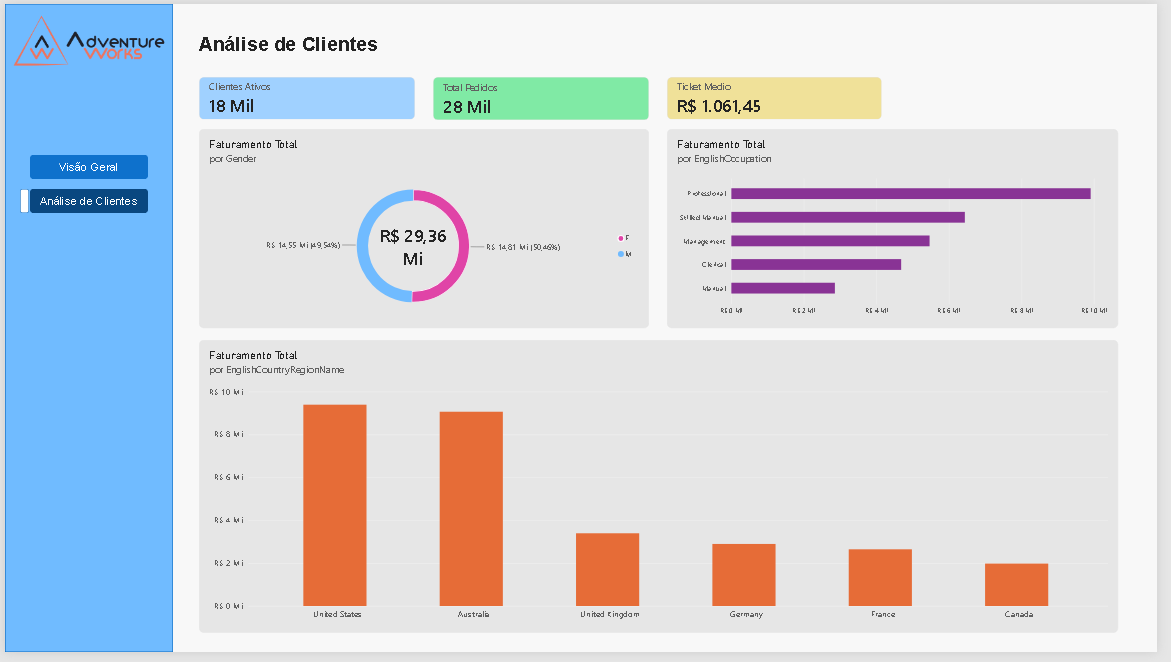

Layout of this report page (visuals, bound fields, positions):
{"tool":"powerbi","page":{"name":"Análise de Clientes","canvas":[1920,1080],"ordinal":1},"visuals":[{"type":"shape","box":[0,0,280,1080],"z":0},{"type":"image","box":[0,0,280,122],"z":1000},{"type":"textbox","box":[323.3,48.3,360,40],"z":2000},{"type":"donutChart","title":"Faturamento por Gênero","fields":{"Category":["DimCustomer.Gender"],"Y":["FactInternetSales.Faturamento Total"]},"box":[323.3,208.3,750,331.7],"z":3000},{"type":"cardVisual","fields":{"Data":["FactInternetSales.Clientes Ativos"]},"box":[323.3,121.7,360,71.7],"z":4000},{"type":"cardVisual","fields":{"Data":["FactInternetSales.Total Pedidos"]},"box":[712.5,121.2,360,72],"z":5000},{"type":"cardVisual","fields":{"Data":["FactInternetSales.Ticket Medio"]},"box":[1103.3,121.7,358.3,71.7],"z":6000},{"type":"clusteredColumnChart","title":"Faturamento por País","fields":{"Category":["DimGeography.EnglishCountryRegionName"],"Y":["FactInternetSales.Faturamento Total"]},"box":[323.3,560,1531.7,488.3],"z":7000},{"type":"barChart","title":"Faturamento por Profissão","fields":{"Category":["DimCustomer.EnglishOccupation"],"Y":["FactInternetSales.Faturamento Total"]},"box":[1103.3,208.3,751.7,331.7],"z":8000},{"type":"actionButton","box":[41.7,250.8,196.7,40],"z":9000},{"type":"actionButton","box":[41.7,308.3,196.7,40],"z":10000},{"type":"shape","box":[25,308.5,12,40],"z":11000},{"type":"cardVisual","fields":{"Data":["FactInternetSales.Frequência de Compra"]},"box":[1495.7,121.4,358.6,71.4],"z":12000},{"type":"actionButton","box":[41.7,361.2,196.7,40],"z":12001}]}

Visuals, with their boxes on the page's 1920x1080 design canvas (x1, y1, x2, y2). These are canvas units, not pixel positions in the 1171x662 screenshot, which may show the page scaled, cropped or inside an application window:
shape: Rect(0, 0, 280, 1080)
image: Rect(0, 0, 280, 122)
textbox: Rect(323, 48, 683, 88)
"Faturamento por Gênero" donutChart: Rect(323, 208, 1073, 540)
cardVisual - FactInternetSales.Clientes Ativos: Rect(323, 122, 683, 193)
cardVisual - FactInternetSales.Total Pedidos: Rect(712, 121, 1072, 193)
cardVisual - FactInternetSales.Ticket Medio: Rect(1103, 122, 1462, 193)
"Faturamento por País" clusteredColumnChart: Rect(323, 560, 1855, 1048)
"Faturamento por Profissão" barChart: Rect(1103, 208, 1855, 540)
actionButton: Rect(42, 251, 238, 291)
actionButton: Rect(42, 308, 238, 348)
shape: Rect(25, 308, 37, 348)
cardVisual - FactInternetSales.Frequência de Compra: Rect(1496, 121, 1854, 193)
actionButton: Rect(42, 361, 238, 401)
